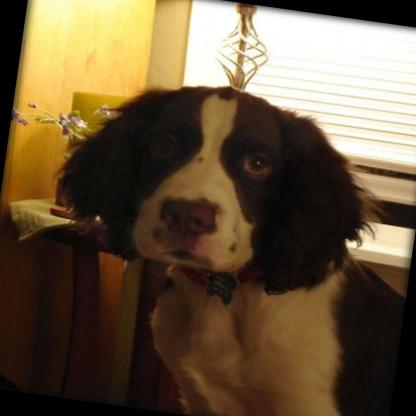English_springer: (17, 61, 416, 416)
